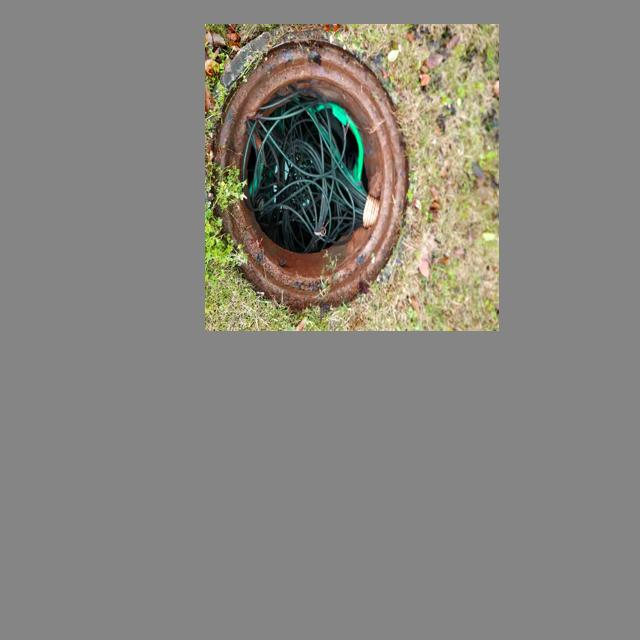lose: (214, 27, 408, 313)
